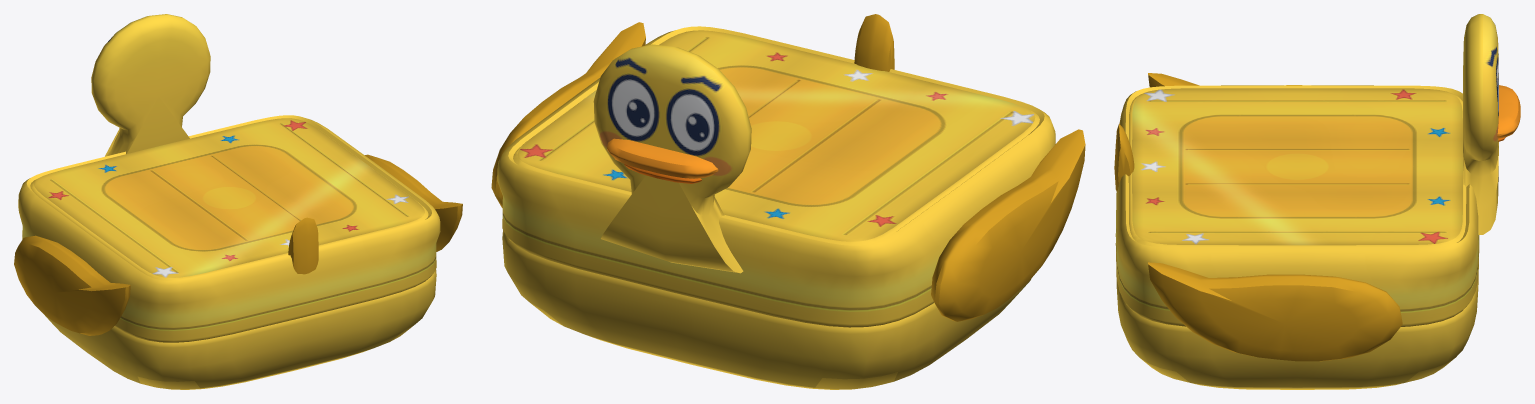
Rendered from pool_inflatable_duck.glb.
The picture shows the model from 3 angles, left to right: view 1: azimuth 30°, elevation 25°; view 2: azimuth 150°, elevation 25°; view 3: azimuth 270°, elevation 25°; orthographic projection. The views are drawn at different scales.
Parts seen in each view (by area): view 1: pool_inflatable_duck_LOD0; view 2: pool_inflatable_duck_LOD0; view 3: pool_inflatable_duck_LOD0.
Part boxes in pixels (<box>): pool_inflatable_duck_LOD0: <box>14,14,462,389</box>; pool_inflatable_duck_LOD0: <box>491,14,1085,389</box>; pool_inflatable_duck_LOD0: <box>1114,14,1520,389</box>.
Bounding box in the file's own units: 12.02 × 7.97 × 10.05.
Materials: 1 (1 with a texture image).
